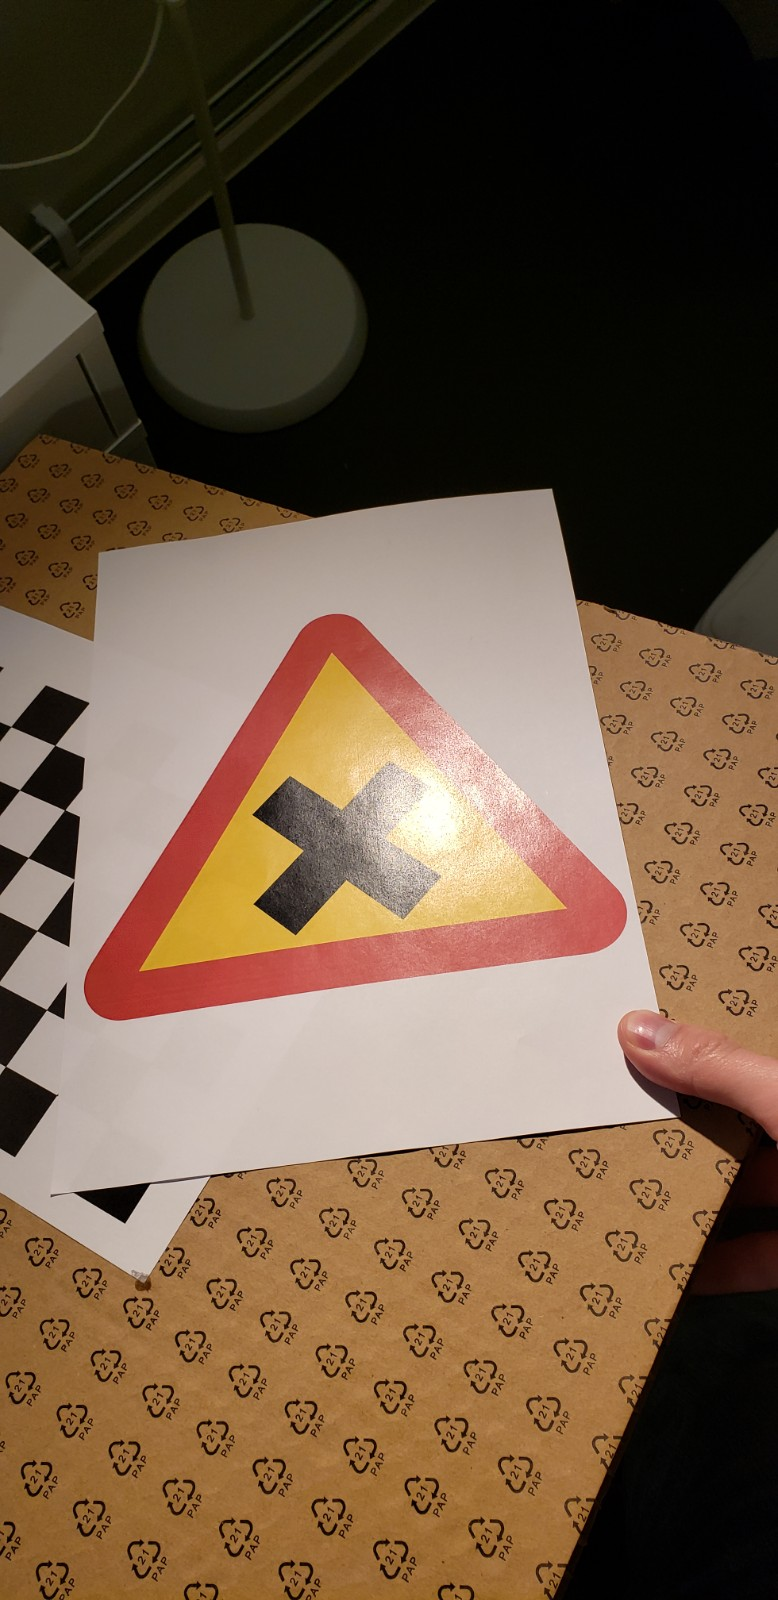junction: (50, 615, 683, 1035)
